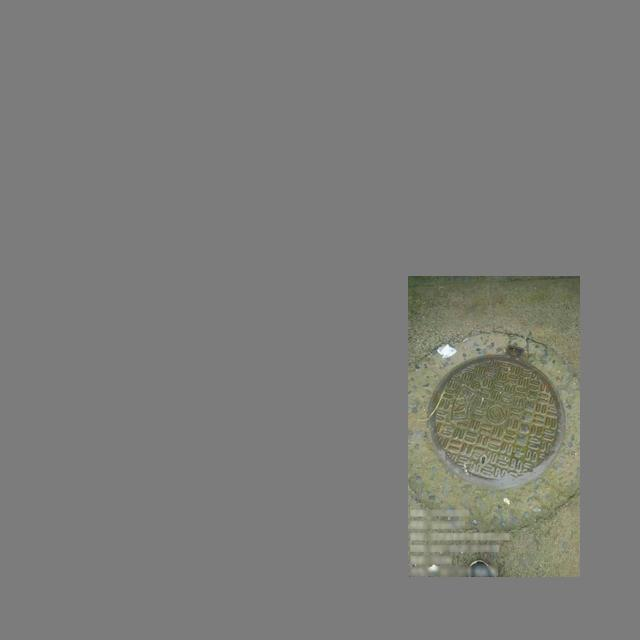good: (428, 344, 566, 491)
